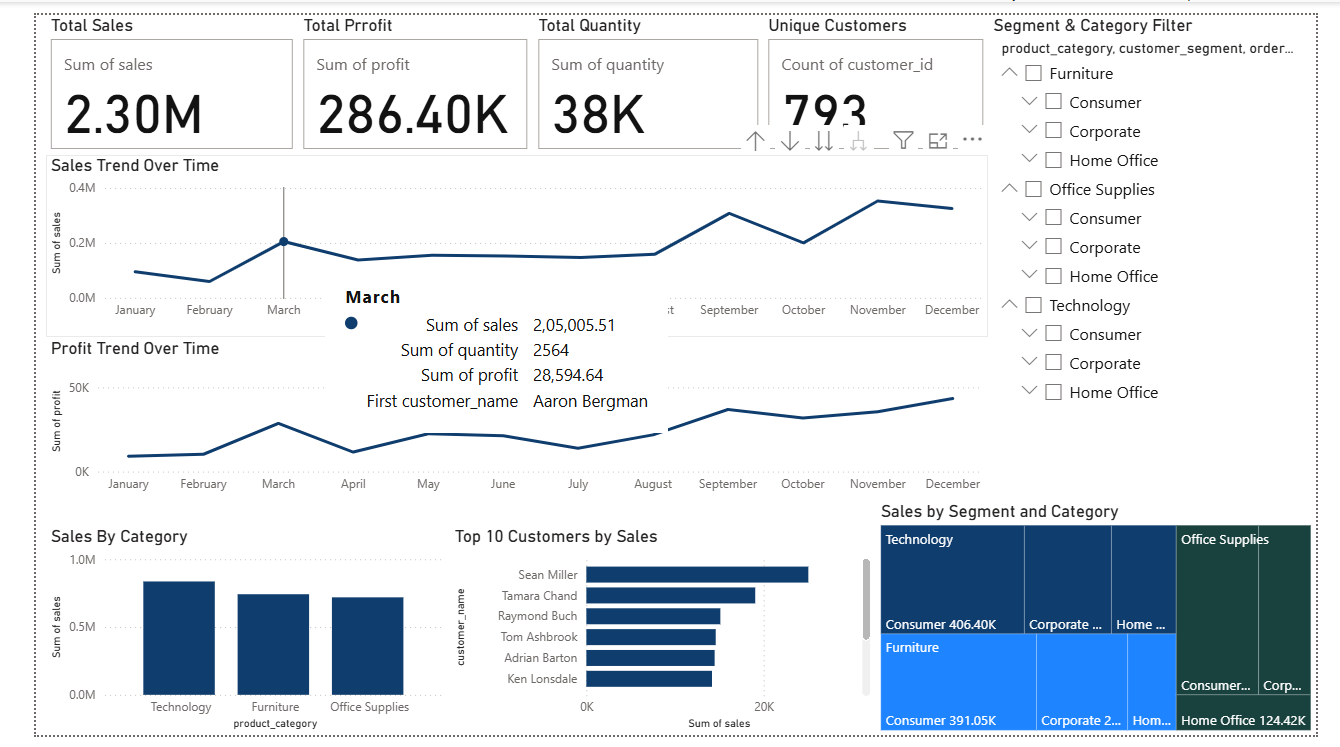

What the dashboard file says about the page in this screenshot:
{"tool":"powerbi","page":{"name":"Page 1","canvas":[1280,720],"ordinal":0},"visuals":[{"type":"cardVisual","title":"Total Sales","fields":{"Data":["Sum(public vw_sales_analysis.sales)"]},"box":[10,0,252.9,140],"z":0},{"type":"cardVisual","title":"Total Prrofit","fields":{"Data":["Sum(public vw_sales_analysis.profit)"]},"box":[262.9,0,234.3,140],"z":1000},{"type":"cardVisual","title":"Total Quantity","fields":{"Data":["Sum(public vw_sales_analysis.quantity)"]},"box":[497.1,0,230,140],"z":2000},{"type":"cardVisual","title":"Unique Customers","fields":{"Data":["Count(public vw_sales_analysis.customer_id)"]},"box":[727.1,0,225.7,140],"z":3000},{"type":"lineChart","title":"Sales Trend Over Time","fields":{"Y":["Sum(public vw_sales_analysis.sales)"],"Category":["public vw_sales_analysis.order_date.Variation.Date Hierarchy.Year","public vw_sales_analysis.order_date.Variation.Date Hierarchy.Quarter","public vw_sales_analysis.order_date.Variation.Date Hierarchy.Month","public vw_sales_analysis.order_date.Variation.Date Hierarchy.Day"]},"box":[10,140,942.9,182.9],"z":4000},{"type":"lineChart","title":"Profit Trend Over Time ","fields":{"Category":["public vw_sales_analysis.order_date.Variation.Date Hierarchy.Year","public vw_sales_analysis.order_date.Variation.Date Hierarchy.Quarter","public vw_sales_analysis.order_date.Variation.Date Hierarchy.Month","public vw_sales_analysis.order_date.Variation.Date Hierarchy.Day"],"Y":["Sum(public vw_sales_analysis.profit)"]},"box":[10,322.9,942.9,164.3],"z":5000},{"type":"clusteredColumnChart","title":"Sales By Category","fields":{"Y":["Sum(public vw_sales_analysis.sales)"],"Category":["public vw_sales_analysis.product_category"]},"box":[10,511.4,404.3,208.6],"z":6000},{"type":"barChart","title":"Top 10 Customers by Sales","fields":{"Category":["public vw_sales_analysis.customer_name"],"Y":["Sum(public vw_sales_analysis.sales)"]},"box":[414.3,511.4,425.7,208.6],"z":7000},{"type":"slicer","title":"Segment & Category Filter","fields":{"Values":["public vw_sales_analysis.product_category","public vw_sales_analysis.customer_segment","public vw_sales_analysis.order_quarter","public vw_sales_analysis.order_year"]},"box":[952.5,0,327.5,486.2],"z":8000},{"type":"treemap","title":"Sales by Segment and Category","fields":{"Group":["public vw_sales_analysis.product_category"],"Values":["Sum(public vw_sales_analysis.sales)"],"Details":["public vw_sales_analysis.customer_segment"]},"box":[840,485.7,440,234.3],"z":9000}]}

Visuals, with their boxes in screenshot pixels (x1, y1, x2, y2), scaled from the page's 1280x720 canvas onto the 1340x747 screenshot:
"Total Sales" cardVisual: [10,0,275,145]
"Total Prrofit" cardVisual: [275,0,521,145]
"Total Quantity" cardVisual: [520,0,761,145]
"Unique Customers" cardVisual: [761,0,997,145]
"Sales Trend Over Time" lineChart: [10,145,998,335]
"Profit Trend Over Time " lineChart: [10,335,998,505]
"Sales By Category" clusteredColumnChart: [10,531,434,746]
"Top 10 Customers by Sales" barChart: [434,531,879,746]
"Segment & Category Filter" slicer: [997,0,1339,504]
"Sales by Segment and Category" treemap: [879,504,1339,746]
